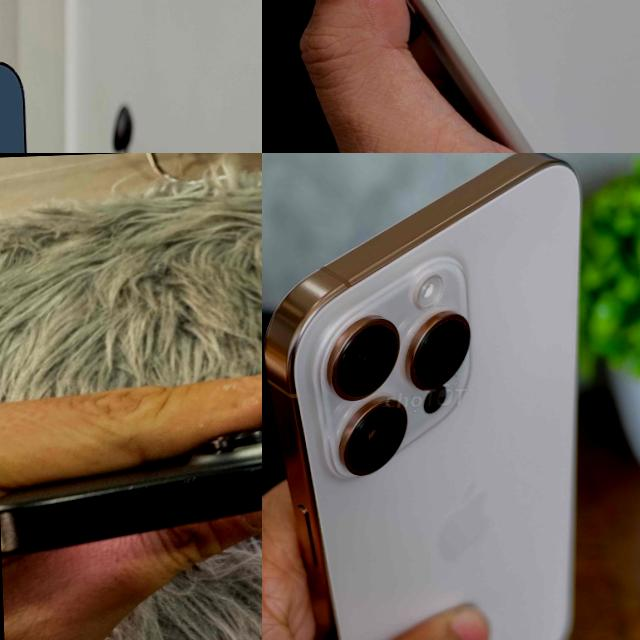gen_16: (262, 153, 603, 640), (0, 429, 262, 552)
gen_17: (268, 0, 640, 153)
